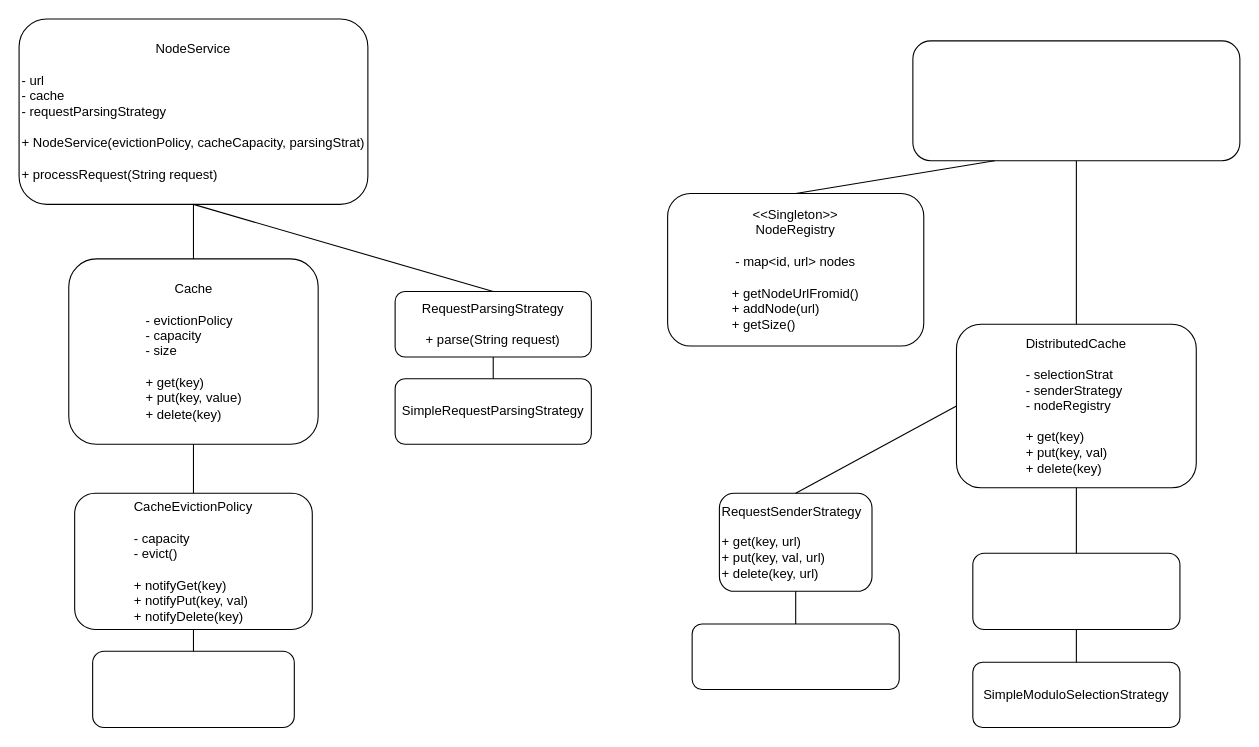
Image size: 1259x747. Some labels were removed from this diagram. Here are the shapes that lost their labels. From the top down, the centre of each, then its label:
At pixel 1076 100: "DistributedCacheFactory + create(nodes, selectionStrat, senderStrategy)".
At pixel 1076 590: "NodeSelectionStrategy chooseNode(key)".
At pixel 795 656: "SimpleRequestSendingStrategy".
At pixel 193 689: "LRUCacheEvictionPolicy".
